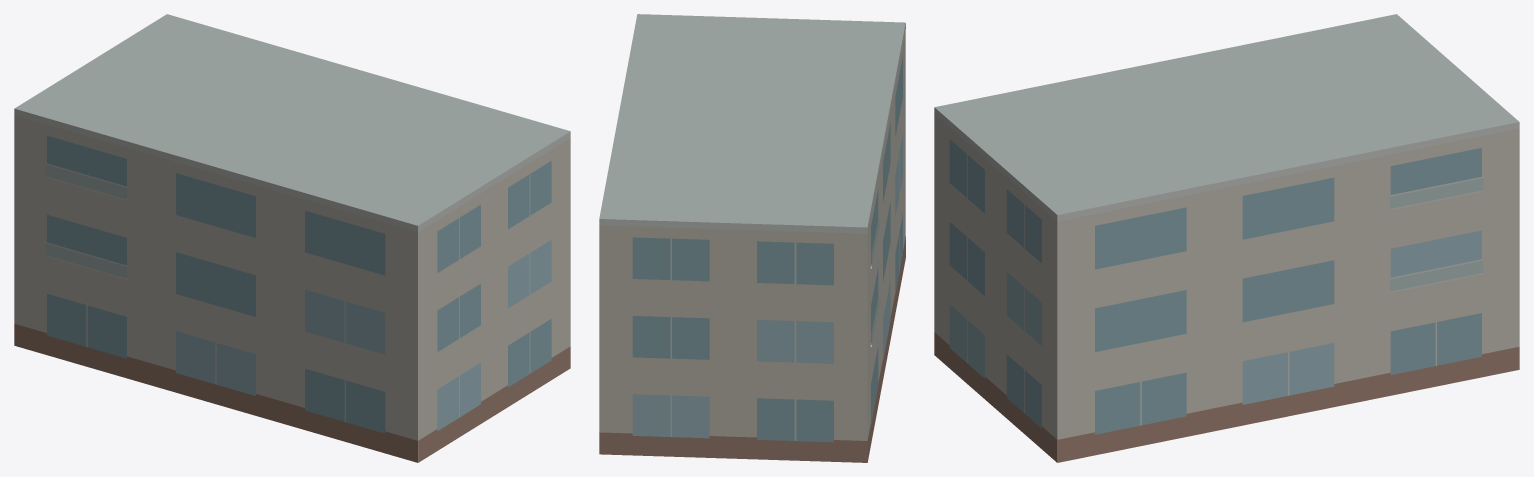
File: survey-upis-32708311.glb
3 renders of one model, left to right at view 1: azimuth 30°, elevation 25°; view 2: azimuth 150°, elevation 25°; view 3: azimuth 270°, elevation 25°, orthographic. The views are drawn at different scales.
Parts seen in each view (by area): view 1: survey-upis-32708311.tmp; view 2: survey-upis-32708311.tmp; view 3: survey-upis-32708311.tmp.
Boxes of the visible parts, x1,y1,x2,y2 form: survey-upis-32708311.tmp: (14, 14, 570, 462); survey-upis-32708311.tmp: (599, 14, 905, 462); survey-upis-32708311.tmp: (934, 14, 1519, 462).
Size of the model in its own units: 15.93 by 9.15 by 19.59.
